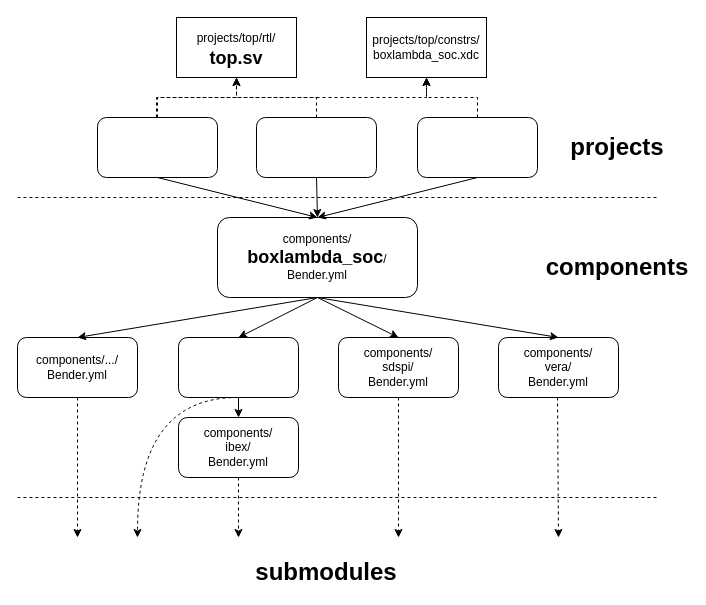
The diagram is 706 pixels wide and 605 high, and some of its shapes have lost their labels. Each missing label, with the centre of its shape:
"components/ ibex_wb_core/ Bender.yml" goes at point 238,367.
"projects/.../ Bender.yml" goes at point 477,147.
"projects/ddr_test/ Bender.yml" goes at point 316,147.
"projects/hello_world/ Bender.yml" goes at point 157,147.
